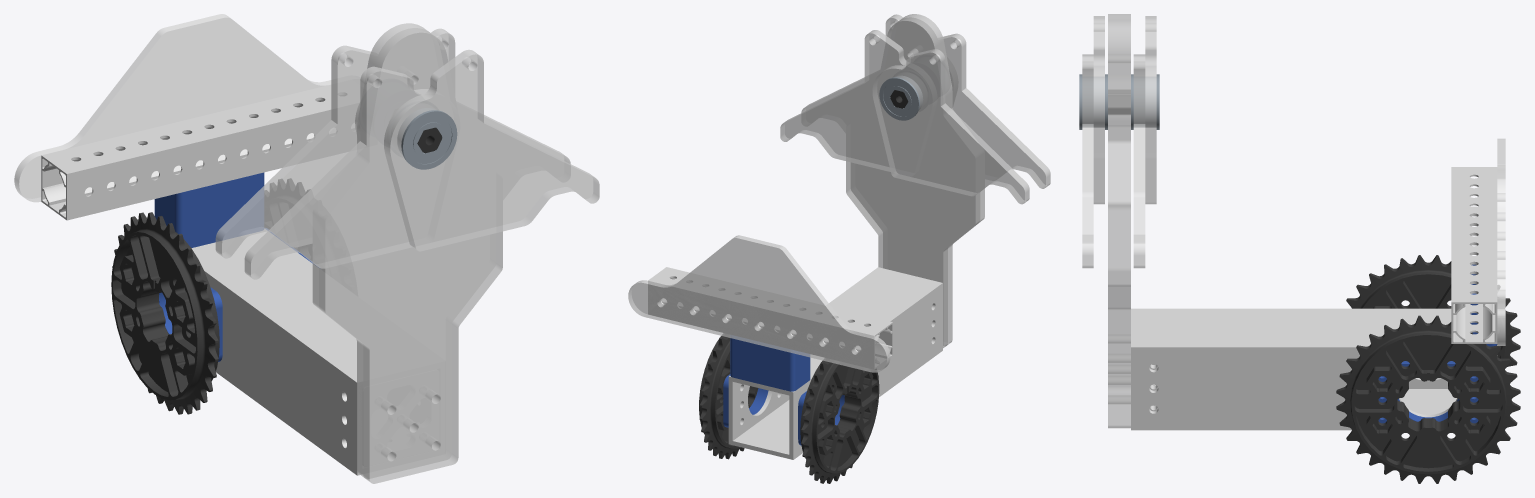
3 views of the same model, side by side, from view 1: azimuth 30°, elevation 25°; view 2: azimuth 150°, elevation 25°; view 3: azimuth 270°, elevation 25° (orthographic). The views are drawn at different scales.
Parts seen in each view (by area): view 1: 04-08 Barb Body (×2), 04-09 Barb Finger (×4), 04-07 Tube 2"x2"x8", 04-11 Tube 1"x1"x7", 35 Billet Sprocket - 32T (REV-21-3719) (×2), 04-10 Top V, 04-12 Spacer for V, .5" Hex ID 1.125" OD Flanged Bearing (217-2734), Climber Spacer; view 2: 04-09 Barb Finger (×4), 04-08 Barb Body (×2), 04-10 Top V, 04-11 Tube 1"x1"x7", 04-07 Tube 2"x2"x8", 35 Billet Sprocket - 32T (REV-21-3719) (×2), 04-12 Spacer for V, .5" Hex ID 1.125" OD Flanged Bearing (217-2734), Climber Spacer; view 3: 04-07 Tube 2"x2"x8", 35 Billet Sprocket - 32T (REV-21-3719) (×2), 04-08 Barb Body (×2), 04-09 Barb Finger (×4), 04-11 Tube 1"x1"x7", .5" Hex ID 1.125" OD Flanged Bearing (217-2734) (×4), 04-10 Top V, Shaft, Climber Spacer.
Boxes of the visible parts, x1,y1,x2,y2 form: 04-08 Barb Body (×2): [312, 23, 502, 483]; 04-09 Barb Finger (×4): [215, 28, 599, 279]; 04-07 Tube 2"x2"x8": [191, 229, 363, 475]; 04-11 Tube 1"x1"x7": [41, 80, 359, 220]; 35 Billet Sprocket - 32T (REV-21-3719) (×2): [111, 178, 312, 414]; 04-10 Top V: [14, 14, 359, 202]; 04-12 Spacer for V: [154, 172, 264, 247]; .5" Hex ID 1.125" OD Flanged Bearing (217-2734): [397, 108, 457, 169]; Climber Spacer: [159, 287, 222, 361]; 04-09 Barb Finger (×4): [780, 14, 1050, 204]; 04-08 Barb Body (×2): [846, 14, 984, 347]; 04-10 Top V: [628, 235, 890, 372]; 04-11 Tube 1"x1"x7": [648, 267, 892, 369]; 04-07 Tube 2"x2"x8": [728, 267, 942, 459]; 35 Billet Sprocket - 32T (REV-21-3719) (×2): [699, 333, 879, 483]; 04-12 Spacer for V: [730, 335, 810, 391]; .5" Hex ID 1.125" OD Flanged Bearing (217-2734): [879, 76, 922, 120]; Climber Spacer: [723, 374, 768, 427]; 04-07 Tube 2"x2"x8": [1131, 308, 1497, 430]; 35 Billet Sprocket - 32T (REV-21-3719) (×2): [1336, 255, 1520, 483]; 04-08 Barb Body (×2): [1108, 14, 1130, 428]; 04-09 Barb Finger (×4): [1082, 16, 1156, 268]; 04-11 Tube 1"x1"x7": [1451, 167, 1497, 343]; .5" Hex ID 1.125" OD Flanged Bearing (217-2734) (×4): [1079, 74, 1159, 129]; 04-10 Top V: [1497, 138, 1505, 345]; Shaft: [1108, 90, 1130, 114]; Climber Spacer: [1378, 361, 1478, 423].
Bounding box in the file's own units: 0.2032 × 0.2667 × 0.2448.
